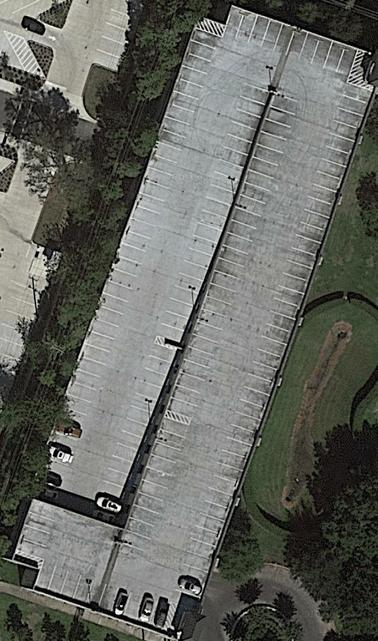parkingspot: (172, 81, 373, 599), (33, 26, 225, 506), (165, 92, 299, 420), (155, 82, 273, 346), (89, 342, 181, 527), (33, 558, 173, 633), (221, 5, 359, 78), (119, 416, 192, 553), (0, 267, 55, 364), (89, 6, 146, 76), (16, 499, 60, 561), (7, 0, 67, 18)
